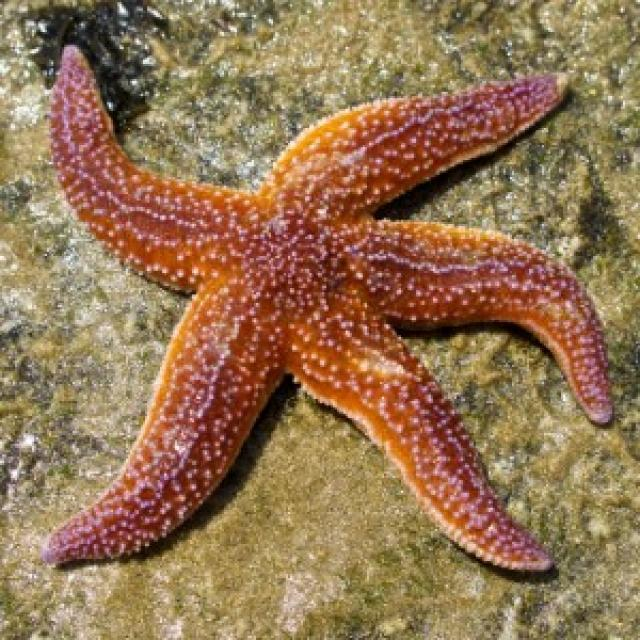Starfish: (36, 9, 624, 612)
